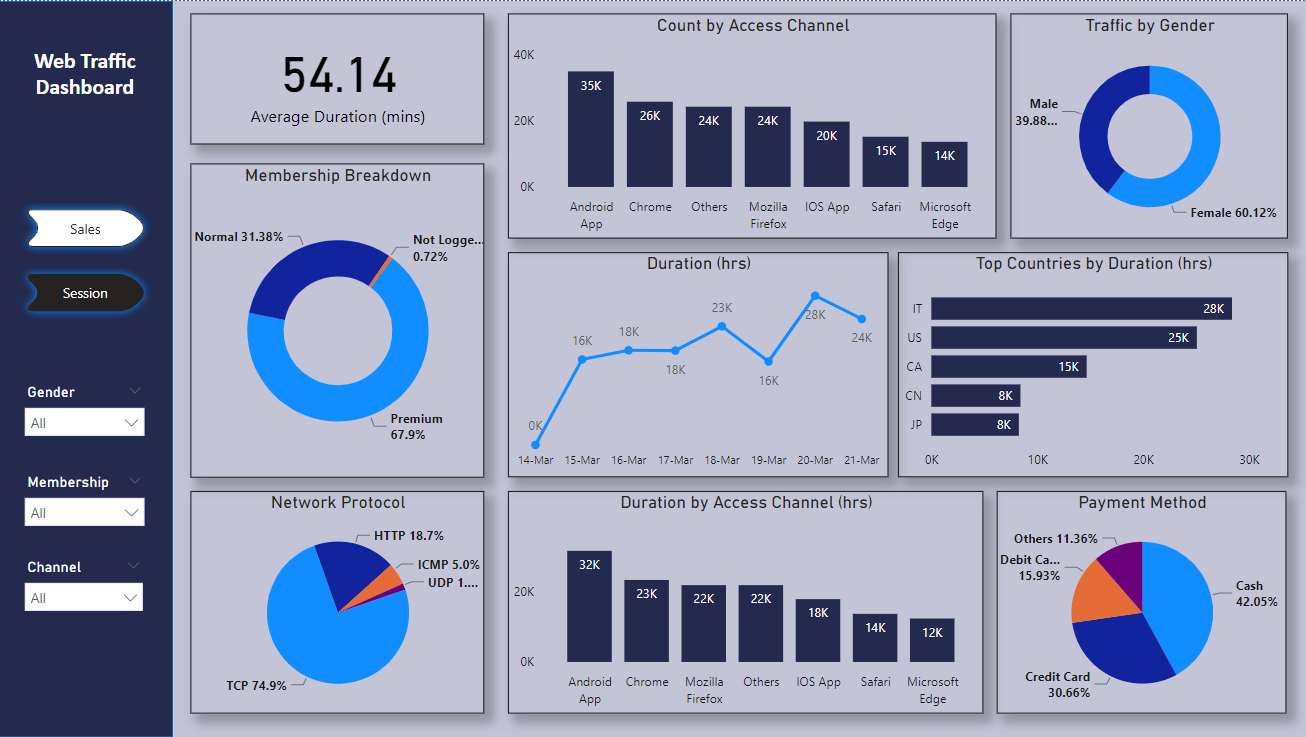

The dashboard page shown, as its layout file describes it:
{"tool":"powerbi","page":{"name":"Session","canvas":[1280,720],"ordinal":1},"visuals":[{"type":"donutChart","title":"Membership Breakdown","fields":{"Category":["E-commerce Website Logs.membership"],"Y":["E-commerce Website Logs.Count of data"]},"box":[188.3,158.9,287.3,306.8],"z":0},{"type":"pieChart","title":"Network Protocol","fields":{"Category":["E-commerce Website Logs.network_protocol"],"Y":["E-commerce Website Logs.Count Network Protocol"]},"box":[188.3,479.2,287.3,217.6],"z":1000},{"type":"shape","box":[0,0,171.1,720],"z":2000},{"type":"textbox","box":[22,40.2,125.6,70.7],"z":3000},{"type":"pageNavigator","box":[15.9,195.6,139.4,117.4],"z":4000},{"type":"slicer","fields":{"Values":["E-commerce Website Logs.gender"]},"box":[15.6,369.4,136.9,74.4],"z":5000},{"type":"slicer","fields":{"Values":["E-commerce Website Logs.membership"]},"box":[15.6,456.9,136.9,70],"z":6000},{"type":"slicer","fields":{"Values":["E-commerce Website Logs.accessed_From"]},"box":[15.6,540,135.6,73.1],"z":7000},{"type":"clusteredColumnChart","title":"Count by Access Channel","fields":{"Category":["E-commerce Website Logs.accessed_Ffom"],"Y":["E-commerce Website Logs.Count of data"]},"box":[498.7,12.2,478,220],"z":8000},{"type":"donutChart","title":"Traffic by Gender","fields":{"Category":["E-commerce Website Logs.gender"],"Y":["E-commerce Website Logs.Count of data"]},"box":[990.2,12.2,271.4,220],"z":9000},{"type":"card","title":"Avg Duration","fields":{"Values":["E-commerce Website Logs.Average duration"]},"box":[188.3,12.2,287.3,128.4],"z":10000},{"type":"pieChart","title":"Payment Method","fields":{"Category":["E-commerce Website Logs.pay_method"],"Y":["E-commerce Website Logs.Count of data"]},"box":[976.7,479.2,283.6,217.6],"z":11000},{"type":"clusteredBarChart","title":"Top Countries by Duration (hrs)","fields":{"Category":["E-commerce Website Logs.country"],"Y":["Sum(E-commerce Website Logs.Duration_hour)"]},"box":[880.1,245.7,381.4,220],"z":12000},{"type":"clusteredColumnChart","title":"Duration by Access Channel (hrs)","fields":{"Category":["E-commerce Website Logs.accessed_From"],"Y":["Sum(E-commerce Website Logs.Duration_hour)"]},"box":[498.7,479.2,464.5,217.6],"z":13000},{"type":"lineChart","title":"Duration (hrs) ","fields":{"Category":["Calender.Day"],"Y":["Sum(E-commerce Website Logs.Duration_hour)"]},"box":[498.7,245.7,371.6,220],"z":13001}]}

Visuals, with their boxes in screenshot pixels (x1, y1, x2, y2), scaled from the page's 1280x720 canvas onto the 1306x737 screenshot:
"Membership Breakdown" donutChart: bbox=(192, 163, 485, 477)
"Network Protocol" pieChart: bbox=(192, 491, 485, 713)
shape: bbox=(0, 0, 175, 736)
textbox: bbox=(22, 41, 151, 114)
pageNavigator: bbox=(16, 200, 158, 320)
slicer - E-commerce Website Logs.gender: bbox=(16, 378, 156, 454)
slicer - E-commerce Website Logs.membership: bbox=(16, 468, 156, 539)
slicer - E-commerce Website Logs.accessed_From: bbox=(16, 553, 154, 628)
"Count by Access Channel" clusteredColumnChart: bbox=(509, 12, 997, 238)
"Traffic by Gender" donutChart: bbox=(1010, 12, 1287, 238)
"Avg Duration" card: bbox=(192, 12, 485, 144)
"Payment Method" pieChart: bbox=(997, 491, 1286, 713)
"Top Countries by Duration (hrs)" clusteredBarChart: bbox=(898, 252, 1287, 477)
"Duration by Access Channel (hrs)" clusteredColumnChart: bbox=(509, 491, 983, 713)
"Duration (hrs) " lineChart: bbox=(509, 252, 888, 477)
